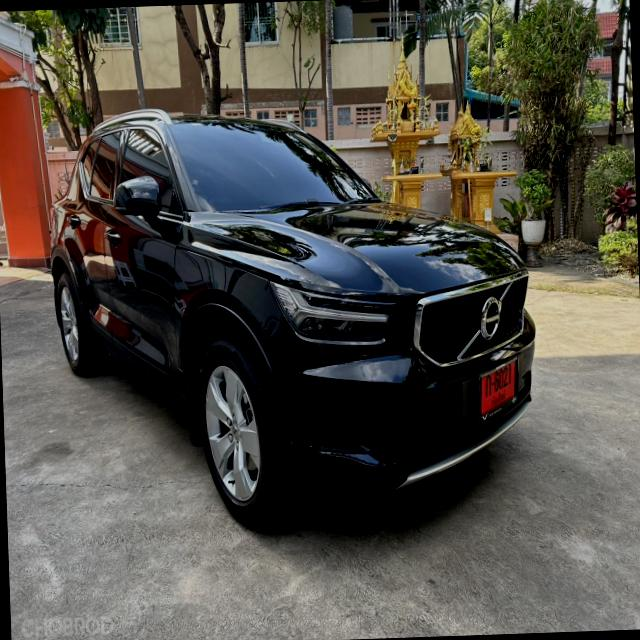license_plate: (472, 352, 524, 430)
